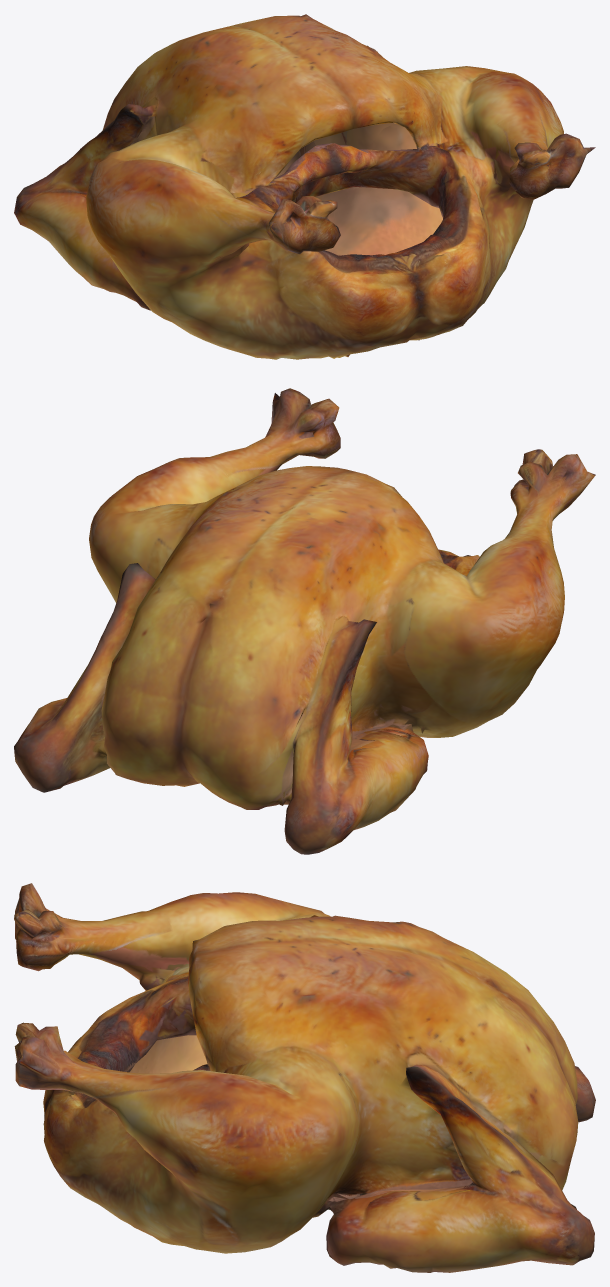
Rendered from Model_Chicken.fbx.
3 renders of one model, top to bottom at view 1: azimuth 30°, elevation 25°; view 2: azimuth 150°, elevation 25°; view 3: azimuth 270°, elevation 25°, orthographic. The views are drawn at different scales.
Parts seen in each view (by area): view 1: input; view 2: input; view 3: input.
Part boxes in pixels (x1,y1,x2,y2): input: (14,14,595,359); input: (14,388,595,854); input: (14,883,595,1272).
Bounding box in the file's own units: 192 × 99.7 × 200.
Materials: 1 (1 with a texture image).
